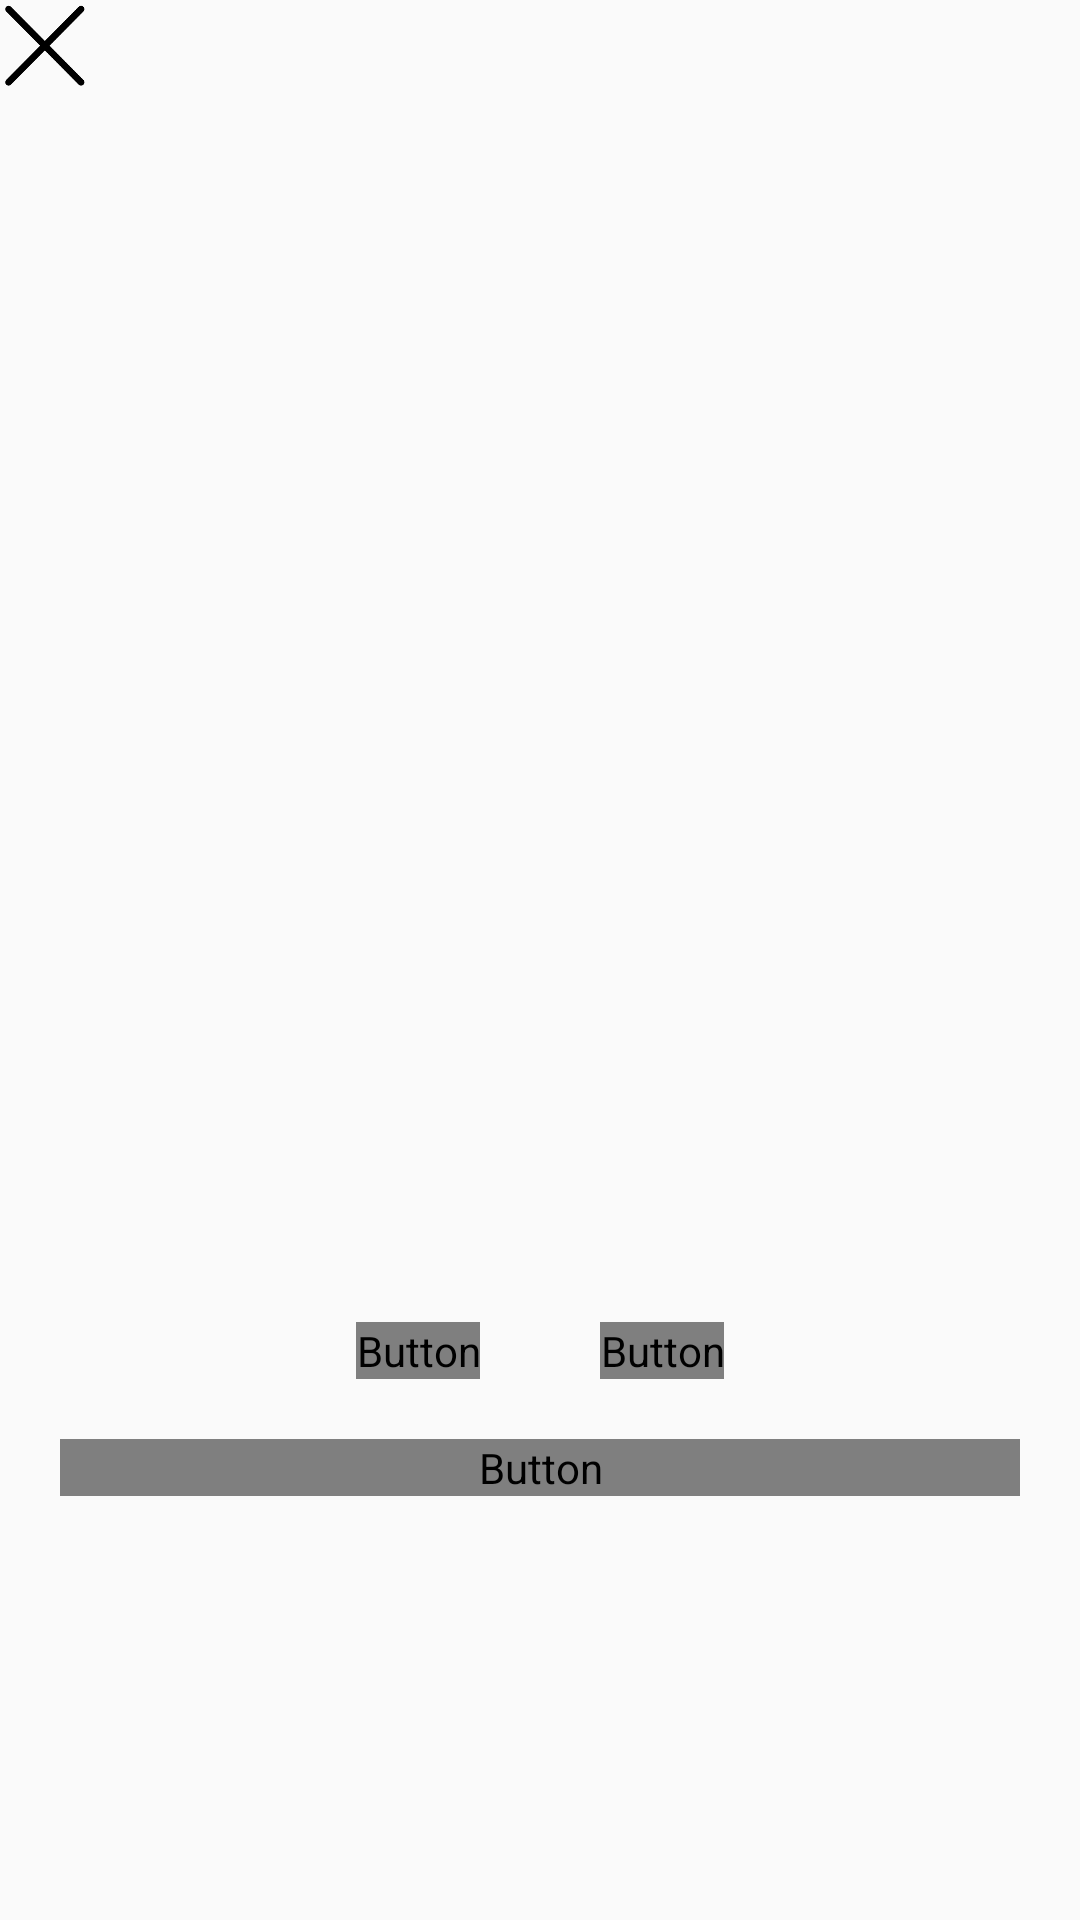

Screen size 1080w x 1920h. Icon name, then its box in pixels as Rect(x1, y1, x2, y2):
exit: Rect(5, 5, 85, 86)
